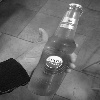beer: (27, 2, 82, 97)
